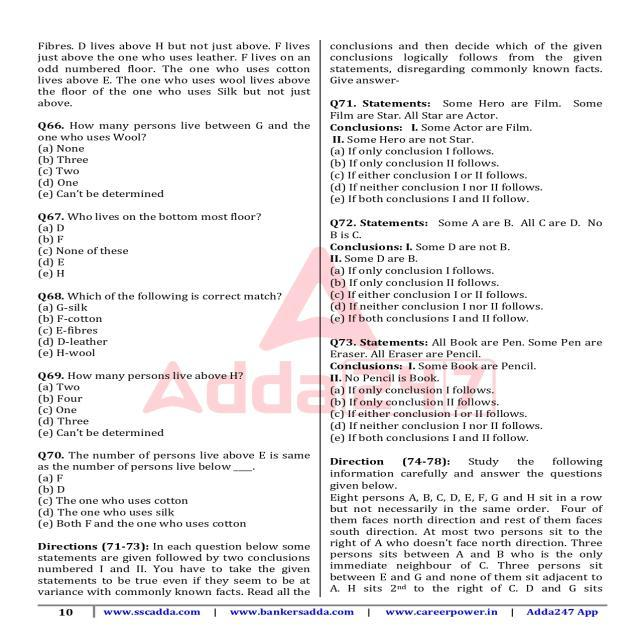Answer_Block: (36, 38, 316, 118), (320, 146, 616, 207), (328, 266, 617, 326), (34, 301, 320, 361), (325, 382, 611, 442), (29, 382, 320, 440), (29, 474, 320, 529), (39, 143, 311, 199), (31, 226, 314, 279)
Instruction: (325, 448, 611, 598), (29, 526, 320, 598), (314, 41, 610, 98)
Question_Answer_Block: (320, 95, 612, 208), (328, 215, 615, 327), (327, 337, 610, 444), (38, 120, 311, 200), (31, 452, 318, 528), (34, 289, 318, 361), (31, 372, 322, 441), (33, 211, 314, 279)
Question_Block: (323, 213, 619, 263), (314, 98, 610, 145), (326, 340, 604, 382), (36, 120, 316, 144), (27, 451, 318, 474), (34, 292, 314, 303), (32, 373, 322, 383), (32, 214, 312, 224)
Question_Paper_Area: (328, 33, 618, 598), (39, 31, 324, 602)
